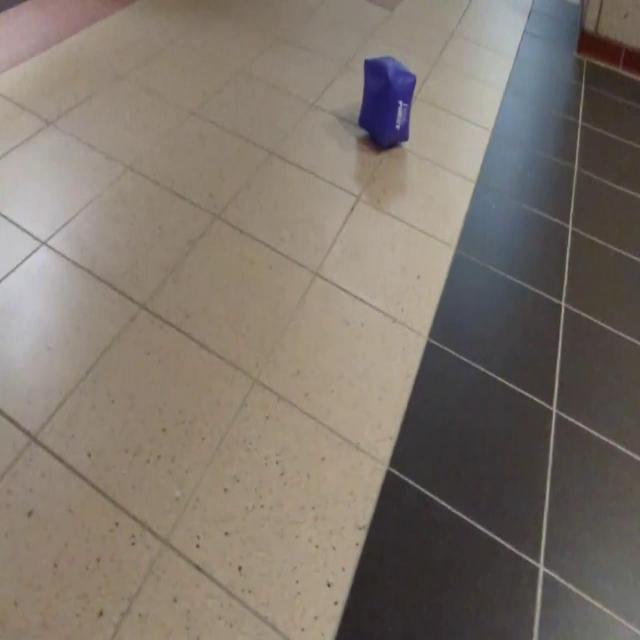frc_cube: (358, 56, 418, 148)
